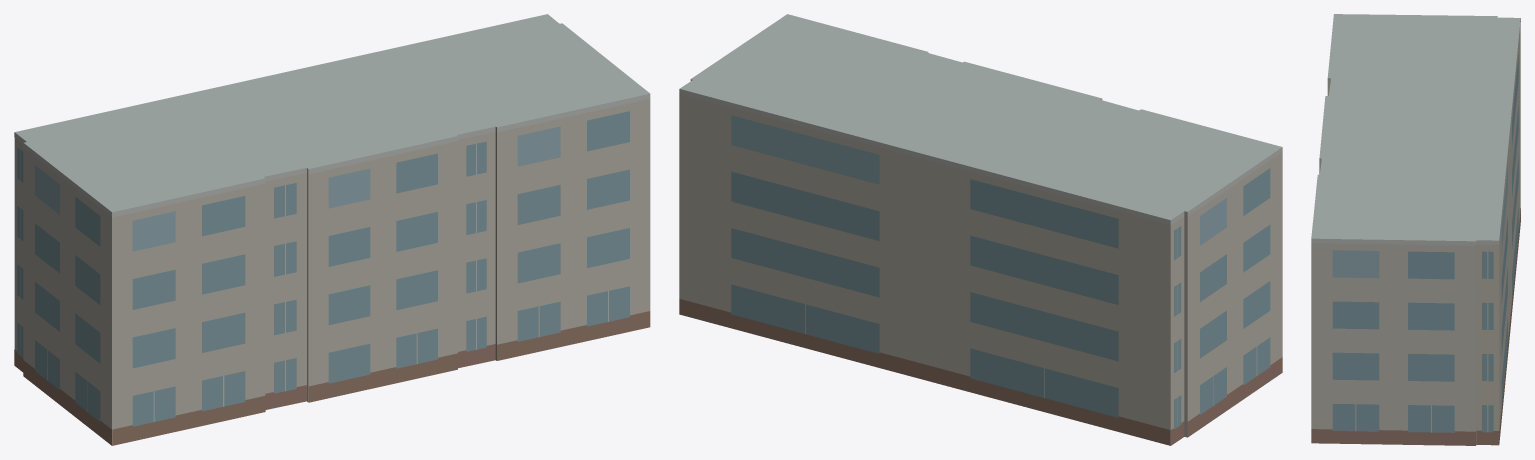
The model's file is survey-upis-32662676.glb.
The picture shows the model from 3 angles, left to right: view 1: azimuth 30°, elevation 25°; view 2: azimuth 150°, elevation 25°; view 3: azimuth 270°, elevation 25°; orthographic projection. The views are drawn at different scales.
Visible parts, largest first — view 1: survey-upis-32662676.tmp; view 2: survey-upis-32662676.tmp; view 3: survey-upis-32662676.tmp.
Boxes of the visible parts, <box> form: survey-upis-32662676.tmp: <box>14,14,650,445</box>; survey-upis-32662676.tmp: <box>679,14,1282,445</box>; survey-upis-32662676.tmp: <box>1311,14,1520,445</box>.
Bounding box in the file's own units: 26.69 × 11.2 × 10.4.
